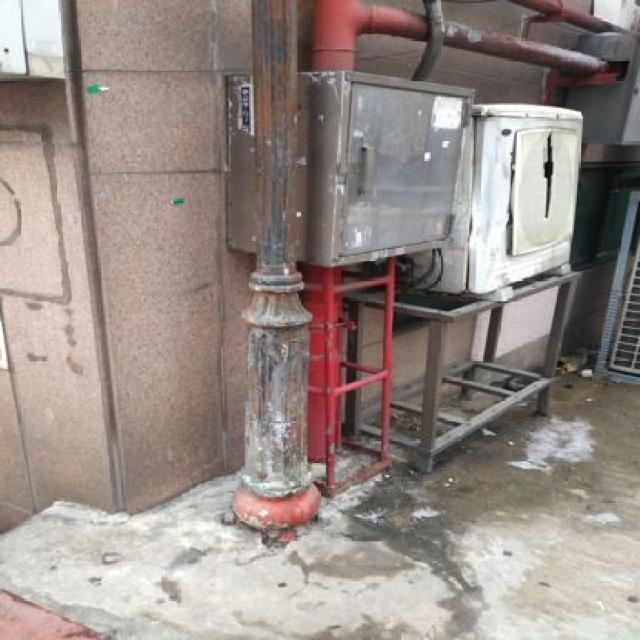pole: (223, 0, 337, 540)
